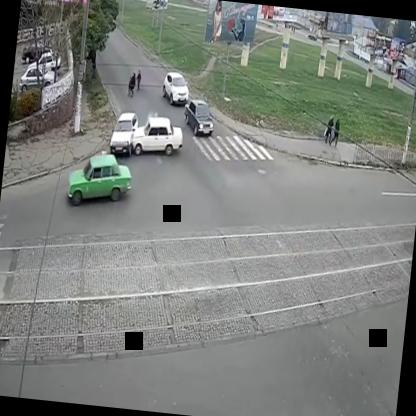accident: (105, 96, 183, 174)
